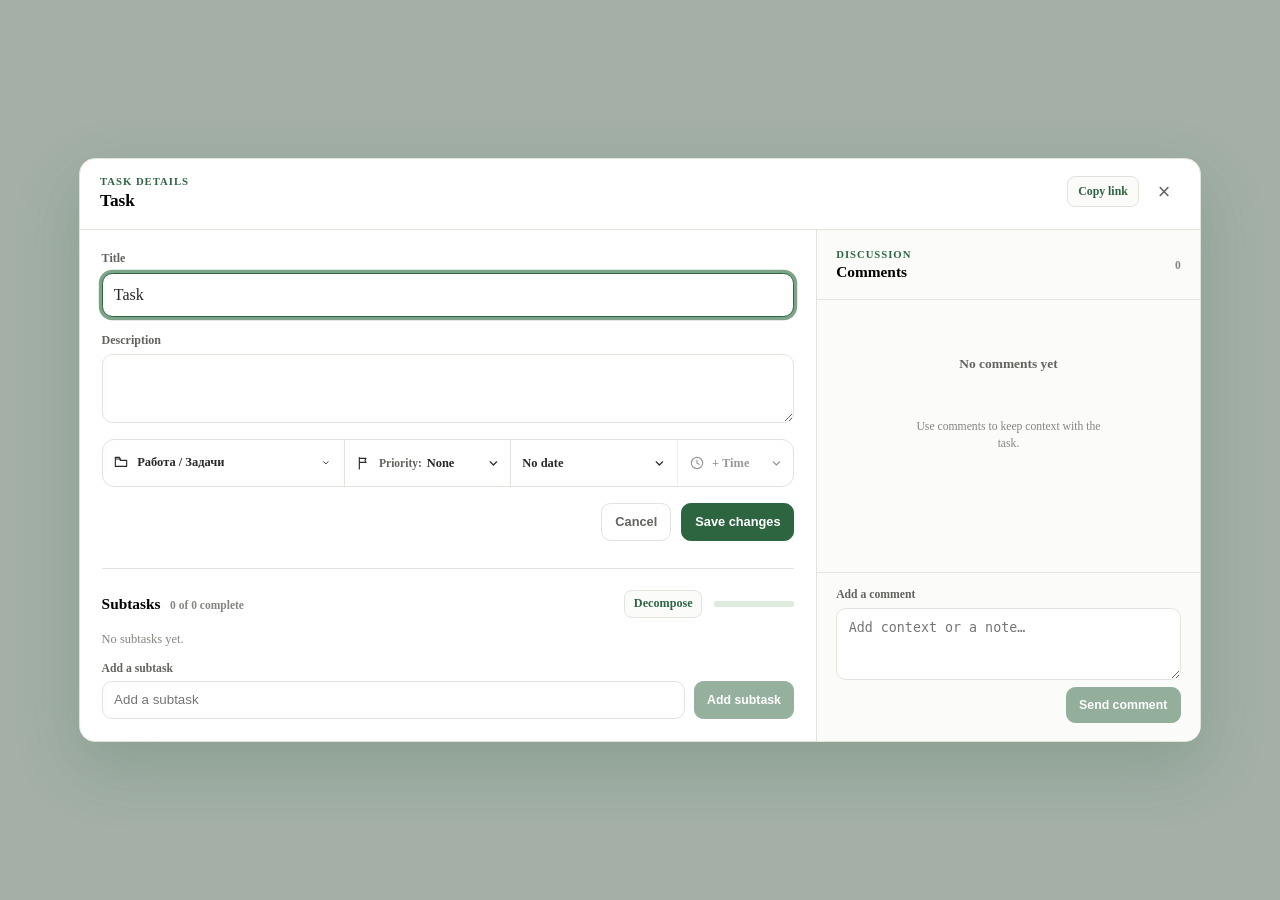
Test: TaskEditorModal relationships › shows task metadata as one compact property bar
The width and height of the screenshot is (1280, 900).
Check: the element named "Task properties" is shown, box [102,440,794,487]
Click the button "Работа / Задачи" at (223, 462), box [103,440,344,484]
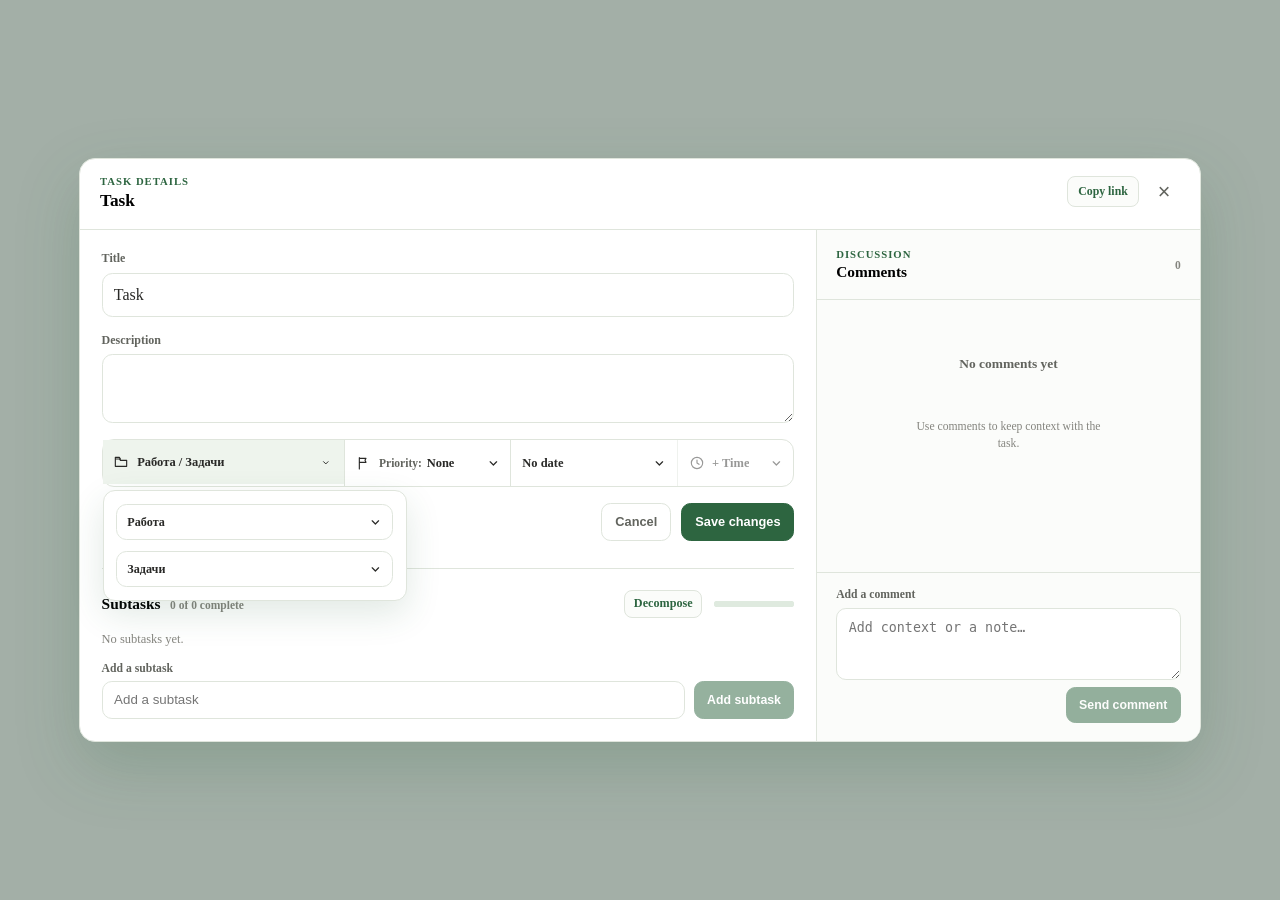
Check: the button with aria-label "Project: Работа" is shown, box [116,504,393,540]
Check: the button with aria-label "Section: Задачи" is shown, box [116,552,393,588]
Click the button "Работа / Задачи" at (223, 462), box [103,440,344,484]
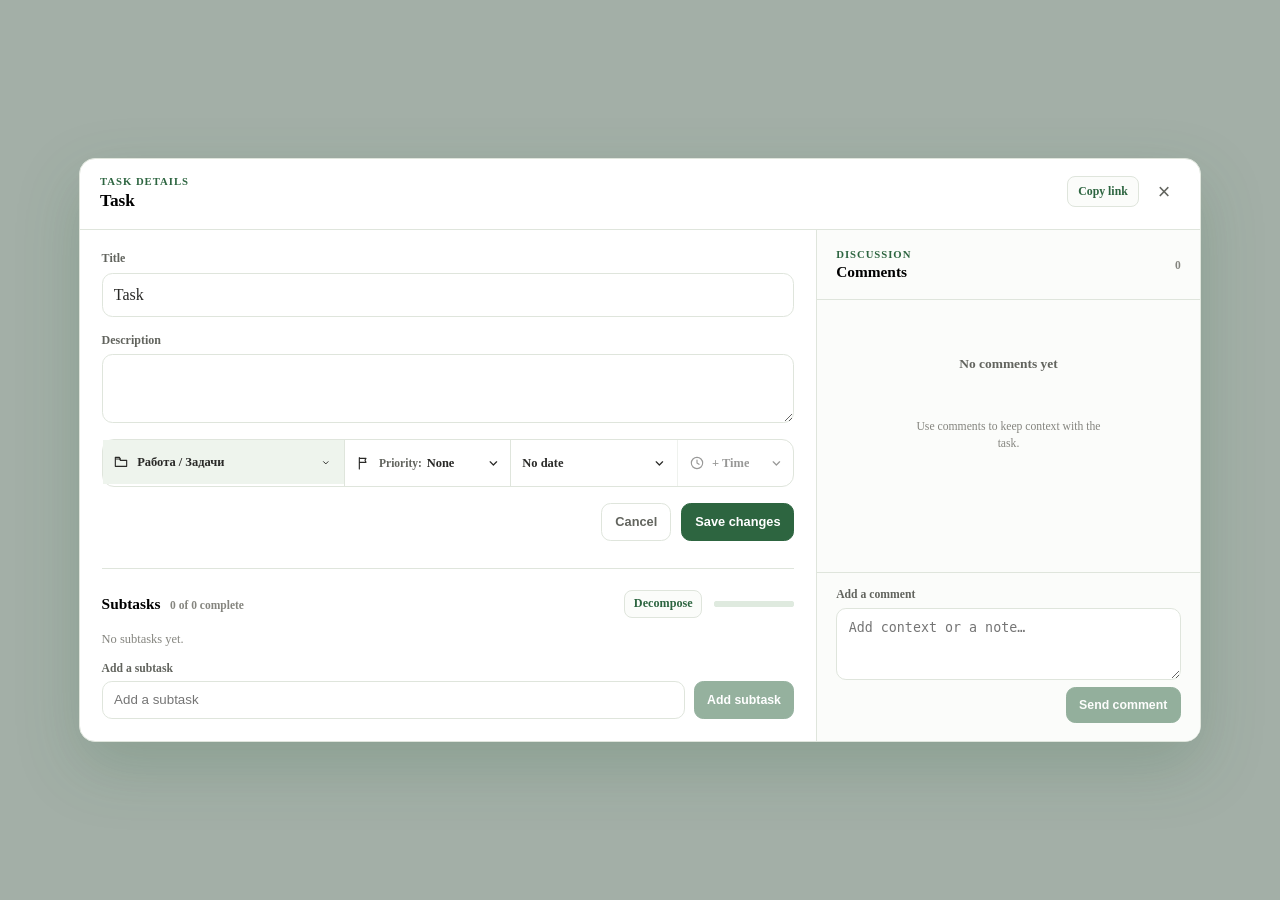
Check: the button "Priority: None" is shown, box [344,440,510,486]
Click the button with aria-label "Due date: No date" at (594, 463), box [510,440,677,486]
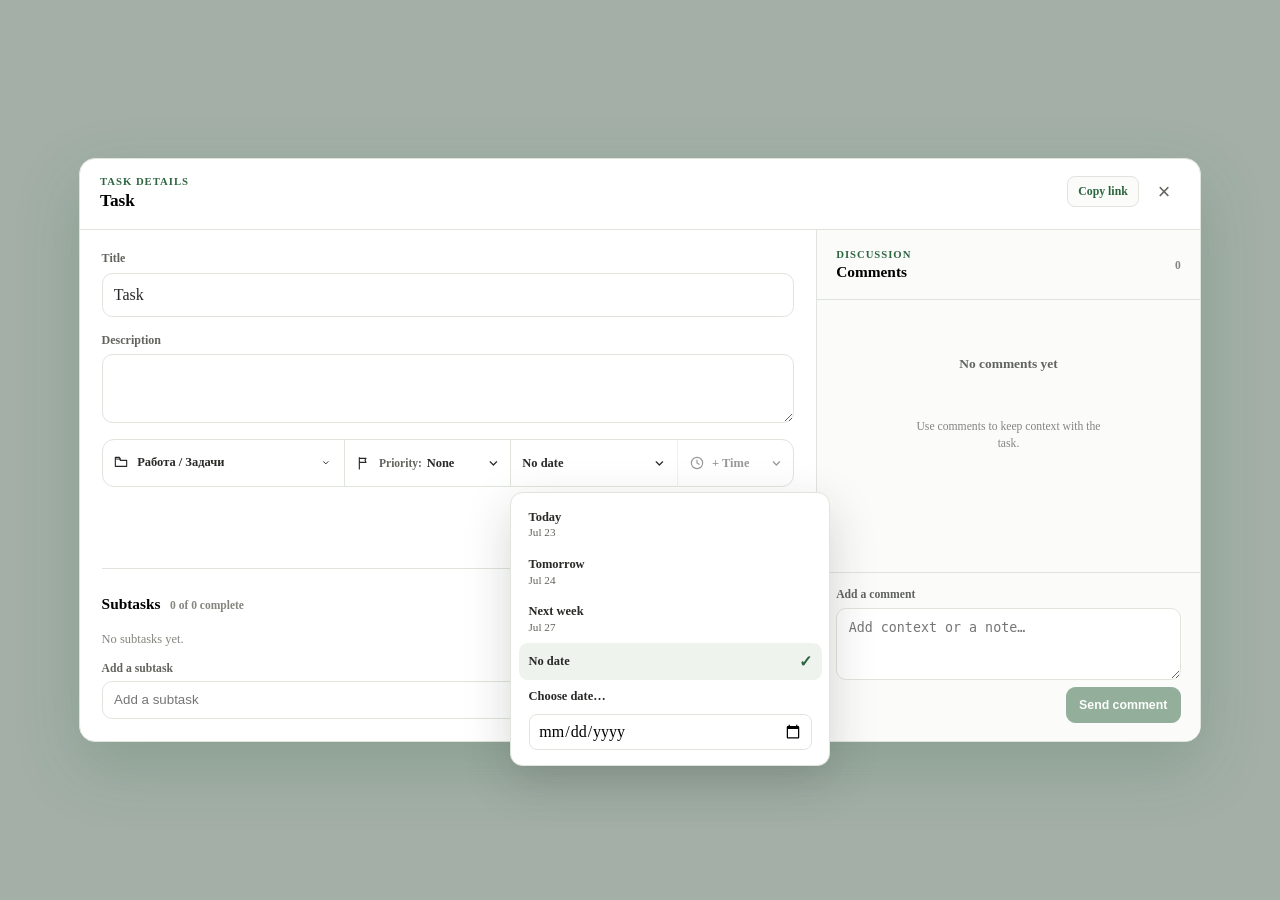
Click the option "Tomorrow Jul 24" at (557, 564), box [519,548,822,595]
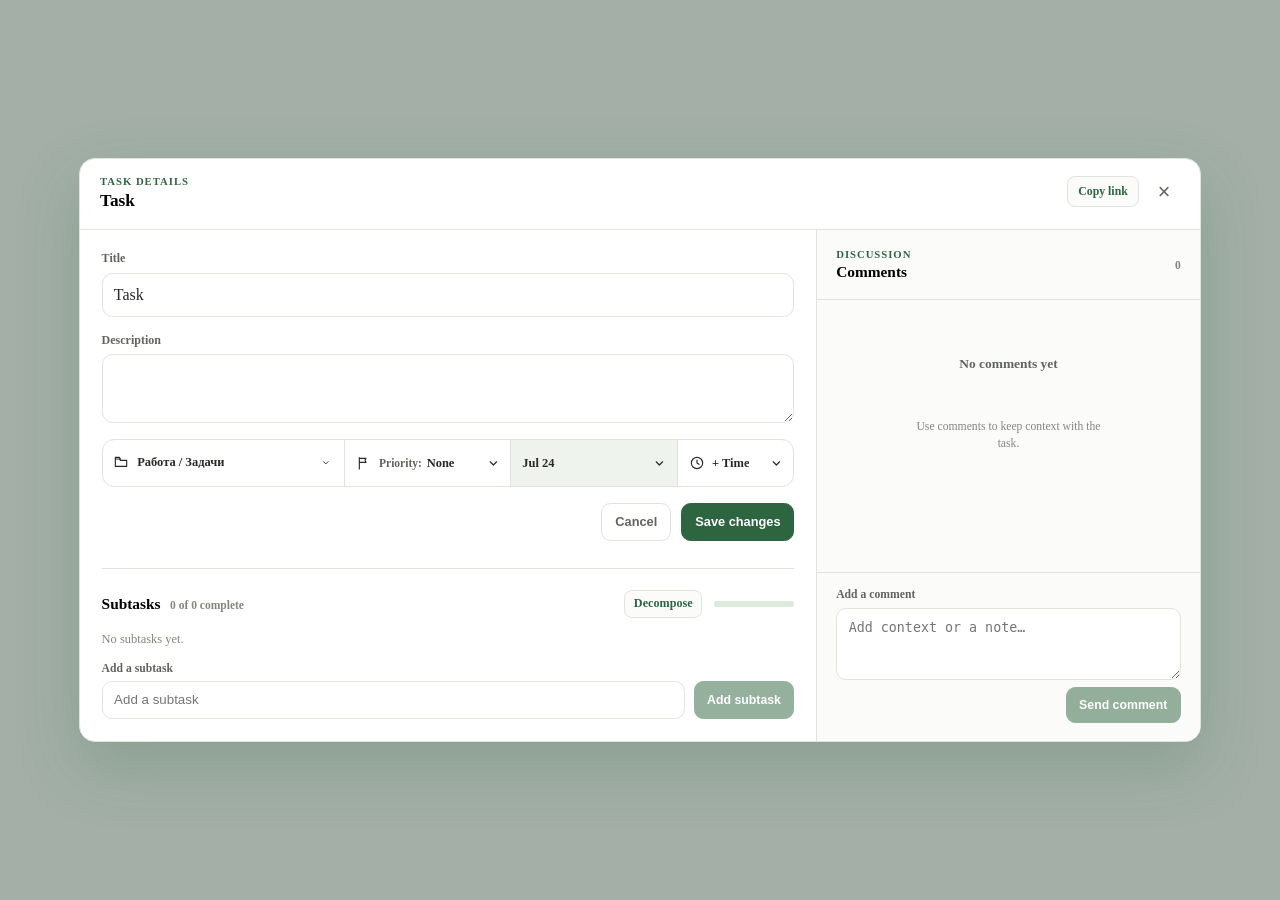
Check: the button with aria-label "Due time:" is enabled, box [677,440,793,486]
